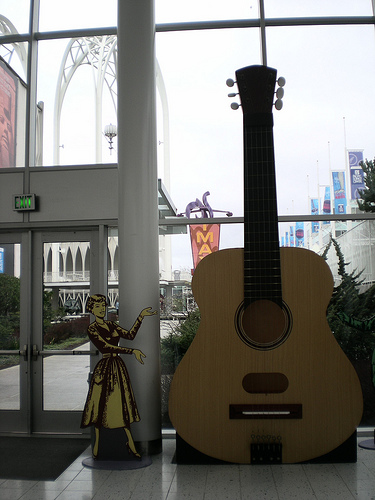guitar: (158, 64, 366, 466)
